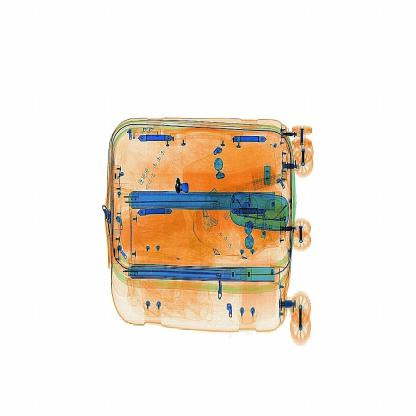wrench: (163, 171, 194, 201)
